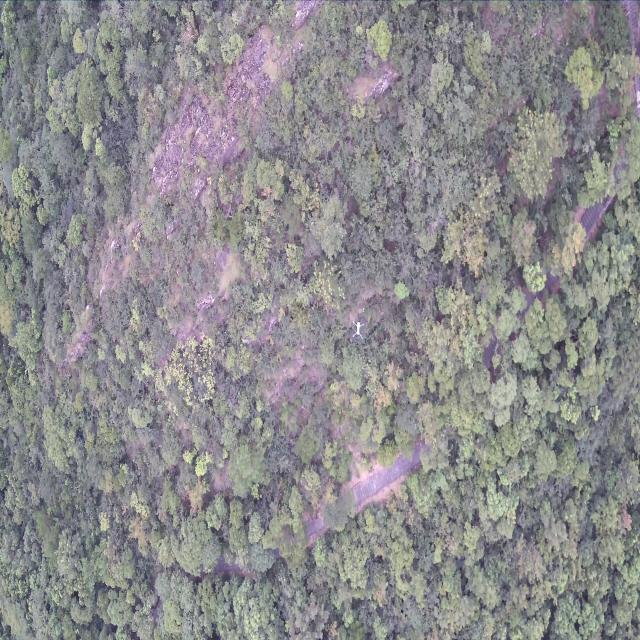UAV: (351, 320, 364, 340)
